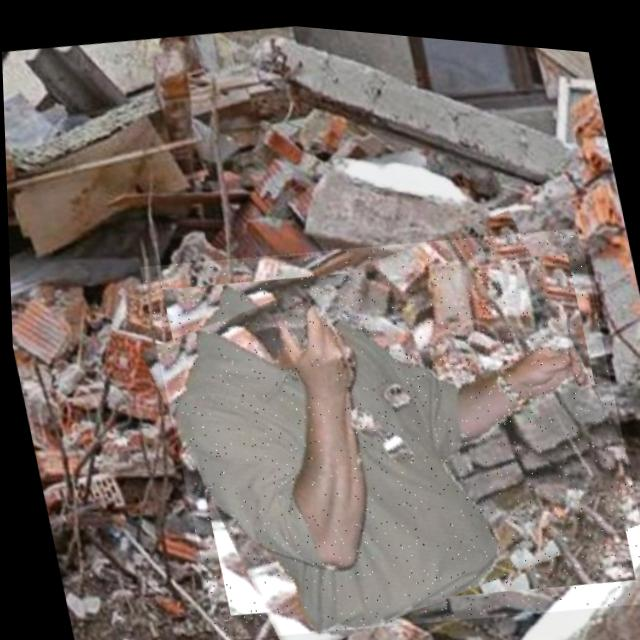Person in Rubble: (135, 186, 640, 640)
